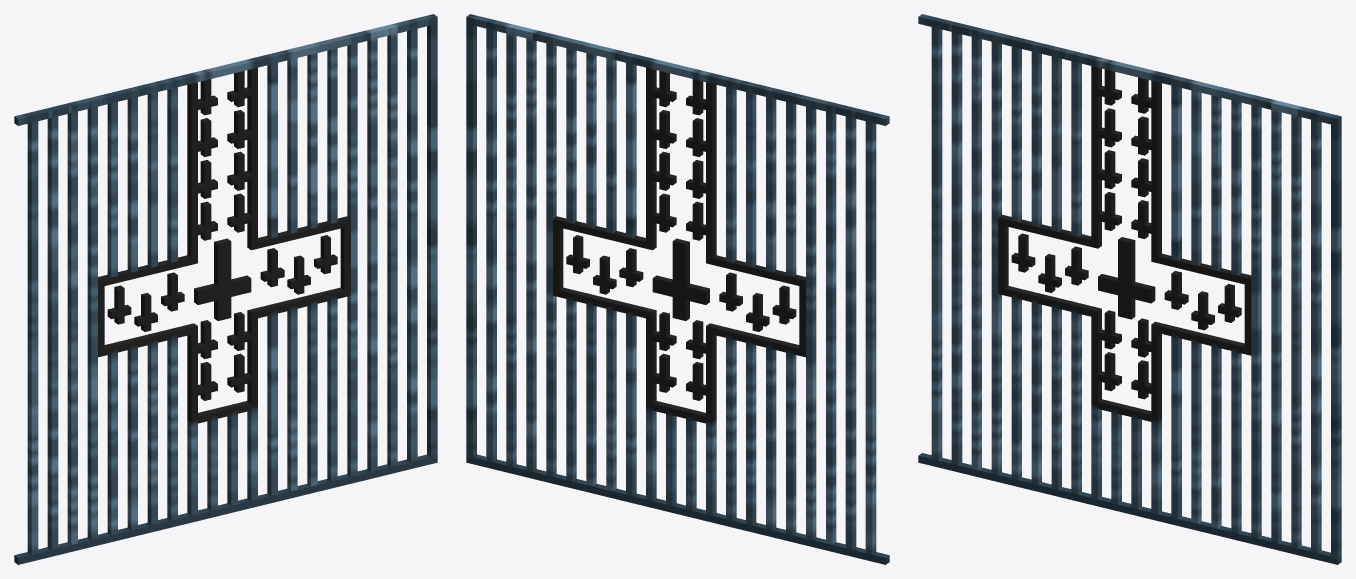
The model's file is DarkBarsRightConector.fbx.
3 renders of one model, left to right at view 1: azimuth 30°, elevation 25°; view 2: azimuth 150°, elevation 25°; view 3: azimuth 330°, elevation 25°, orthographic.
Visible parts, largest first — view 1: Model; view 2: Model; view 3: Model.
Part boxes in pixels (left/top/right/bottom): Model: left=14, top=14, right=437, bottom=564; Model: left=466, top=14, right=889, bottom=564; Model: left=918, top=14, right=1341, bottom=564.
Size of the model in its own units: 3150 by 3200 by 50.
1 material, 1 textured.
